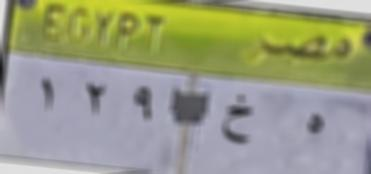1: (35, 73, 61, 118)
2: (79, 74, 112, 126)
9: (130, 82, 158, 128)
haa: (292, 101, 330, 148)
khaa: (220, 87, 258, 150)
